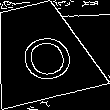O_N: (8, 21, 73, 82)
